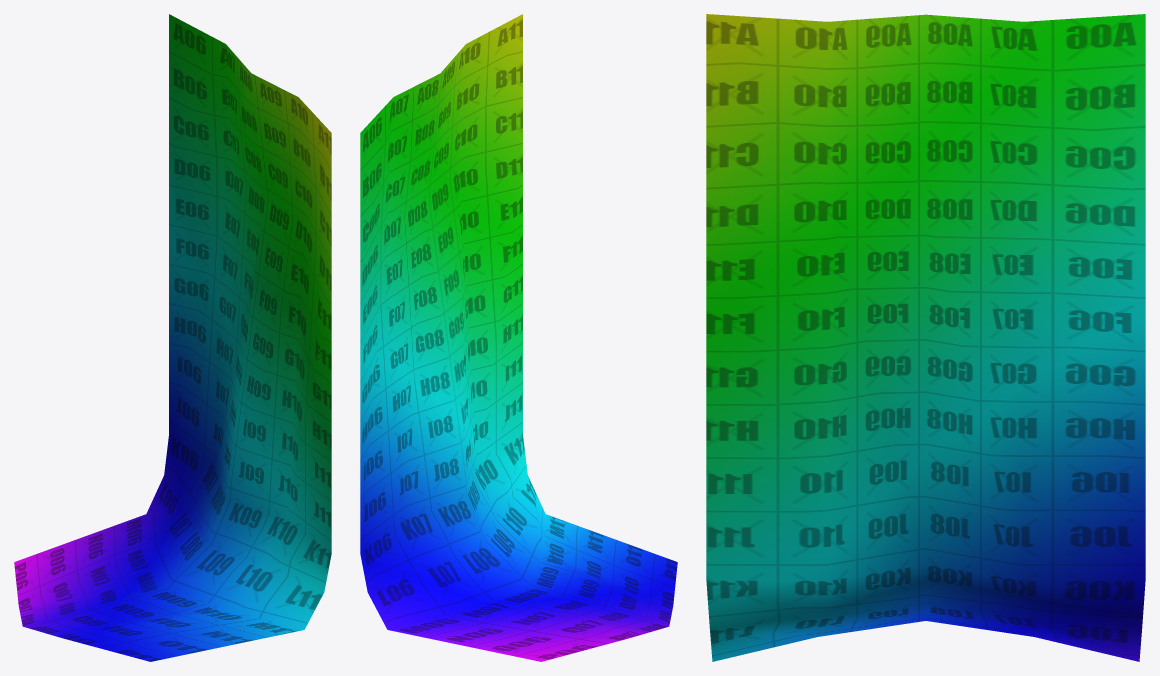
The model's file is fogwall_02.fbx.
3 renders of one model, left to right at view 1: azimuth 30°, elevation 25°; view 2: azimuth 150°, elevation 25°; view 3: azimuth 270°, elevation 25°, orthographic. The views are drawn at different scales.
Visible parts, largest first — view 1: fogwall_02; view 2: fogwall_02; view 3: fogwall_02.
Part boxes in pixels (<box>): fogwall_02: <box>14,14,331,661</box>; fogwall_02: <box>360,14,677,661</box>; fogwall_02: <box>706,14,1145,661</box>.
Bounding box in the file's own units: 0.9301 × 1.07 × 1.8.
